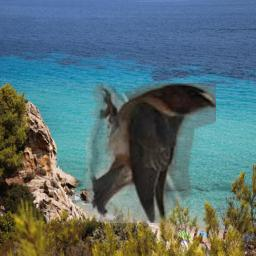Swallow: (86, 83, 216, 223)
